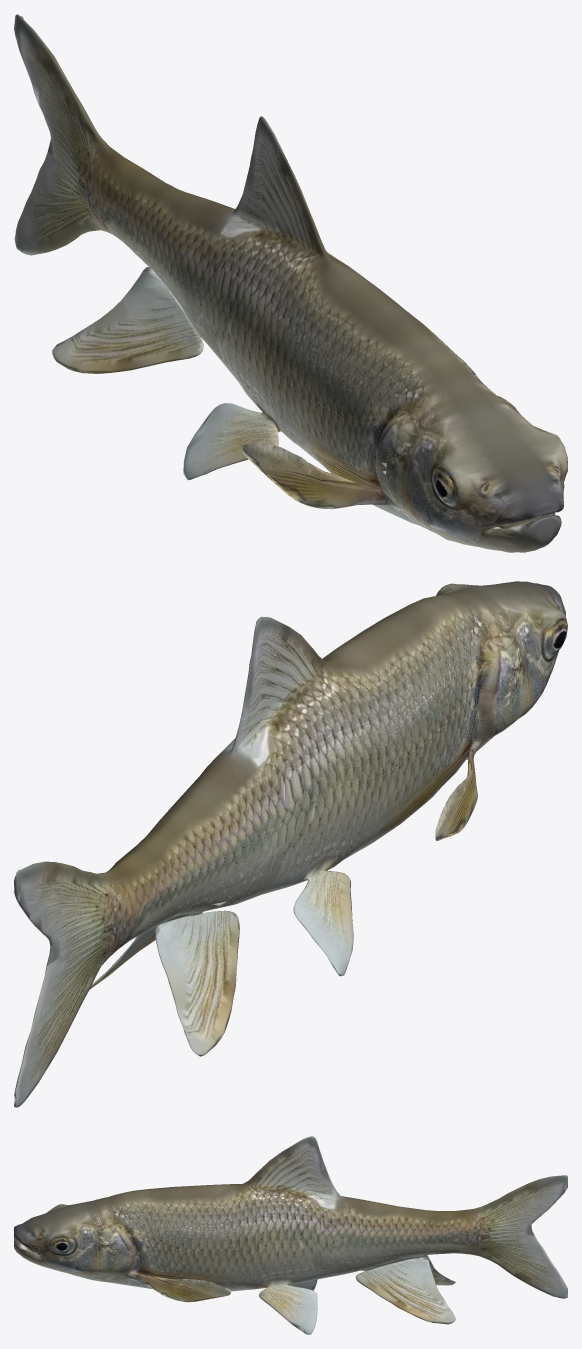
Rendered from zacco.glb.
3 views of the same model, one above another, from view 1: azimuth 30°, elevation 25°; view 2: azimuth 150°, elevation 25°; view 3: azimuth 270°, elevation 25° (orthographic). The views are drawn at different scales.
Visible parts, largest first — view 1: zacco_tex; view 2: zacco_tex; view 3: zacco_tex.
Part boxes in pixels (x1=…): zacco_tex: x1=14, y1=14, x2=567, y2=552; zacco_tex: x1=14, y1=581, x2=567, y2=1107; zacco_tex: x1=14, y1=1136, x2=567, y2=1334.
Bounding box in the file's own units: 0.0266 × 0.0443 × 0.125.
Materials: 2 (2 with a texture image).
